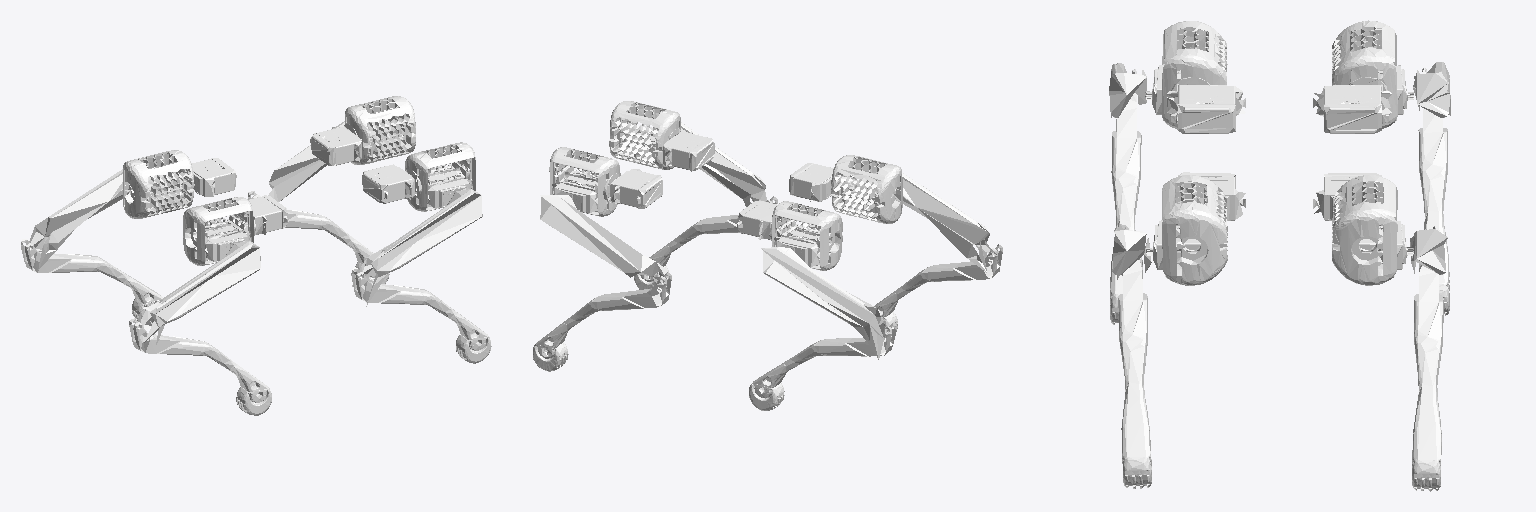
robot.urdf — gray:
<?xml version="1.0" ?>
<robot name="gray">
  <mujoco>
    <compiler meshdir="." discardvisual="false" balanceinertia="true" strippath="false"/>
  </mujoco>
  <link name="base_link">
    <inertial>
      <origin xyz="-0.000000000 0.000000000 -0.003023600" rpy="1.570796327 -0.000000000 0.000000000"/>
      <mass value="0.723180"/>
      <inertia ixx="1.274255707e-04" ixy="-6.558570651e-22" ixz="-5.072049529e-21" iyy="4.291599532e-04" iyz="2.085469317e-20" izz="5.217520436e-04"/>
    </inertial>
    <visual>
      <origin xyz="0.000000000 0.000000000 0.000000000" rpy="1.570796327 -0.000000000 0.000000000"/>
      <geometry>
        <mesh filename="meshes/base_link.STL"/>
      </geometry>
      <material name="">
        <color rgba="1 1 1 1"/>
      </material>
    </visual>
    <collision name="base_link_collision">
      <origin xyz="0.000000000 0.000000000 -0.003000000" rpy="0.000000327 1.570796000 0.000000000"/>
      <geometry>
        <box size="0.025000 0.157562 0.196800"/>
      </geometry>
    </collision>
  </link>
  <link name="fl_hip">
    <inertial>
      <origin xyz="0.0272971333033659 1.75159621585708E-05 0.00247430441137858" rpy="0 0 0"/>
      <mass value="0.089316"/>
      <inertia ixx="4.095139730e-05" ixy="-1.421953676e-08" ixz="-7.320029296e-07" iyy="6.141149443e-05" iyz="3.111072109e-07" izz="8.031087397e-05"/>
    </inertial>
    <visual>
      <origin xyz="0 0 0" rpy="0 0 0"/>
      <geometry>
        <mesh filename="meshes/fl_hip.STL"/>
      </geometry>
      <material name="">
        <color rgba="1 1 1 1"/>
      </material>
    </visual>
    <collision name="fl_hip_collision">
      <origin xyz="0.028311 0.000021 0.001500" rpy="-1.599086 1.555804 -1.599089"/>
      <geometry>
        <box size="0.045024 0.058762 0.067233"/>
      </geometry>
    </collision>
  </link>
  <joint name="fl_hip" type="revolute">
    <origin xyz="0.098400000 0.060681000 -0.003029200" rpy="1.570796327 -0.000000000 0.000000000"/>
    <parent link="base_link"/>
    <child link="fl_hip"/>
    <axis xyz="1 0 0"/>
    <limit lower="-2.356200" upper="2.356200" effort="1.96" velocity="6.54"/>
    <dynamics damping="0.02" friction="0.01"/>
  </joint>
  <link name="fl_top">
    <inertial>
      <origin xyz="-0.0327093590748004 -0.0129114746104738 0.00626100034714228" rpy="0 0 0"/>
      <mass value="0.106742"/>
      <inertia ixx="2.793836667e-05" ixy="-3.713513193e-05" ixz="1.487764120e-06" iyy="9.582909881e-05" iyz="9.648675720e-07" izz="1.136563762e-04"/>
    </inertial>
    <visual>
      <origin xyz="0 0 0" rpy="0 0 0"/>
      <geometry>
        <mesh filename="meshes/fl_top.STL"/>
      </geometry>
      <material name="">
        <color rgba="1 1 1 1"/>
      </material>
    </visual>
    <collision name="fl_top_collision">
      <origin xyz="-0.060420 -0.027111 0.011157" rpy="1.577896 0.013155 2.065427"/>
      <geometry>
        <box size="0.041200 0.070300 0.169826"/>
      </geometry>
    </collision>
  </link>
  <joint name="fl_top" type="revolute">
    <origin xyz="0.0386 -0.011483 -0.032232" rpy="0 0 0"/>
    <parent link="fl_hip"/>
    <child link="fl_top"/>
    <axis xyz="0 0 -1"/>
    <limit lower="-2.356200" upper="2.356200" effort="1.96" velocity="6.54"/>
    <dynamics damping="0.02" friction="0.01"/>
  </joint>
  <link name="fl_bottom">
    <inertial>
      <origin xyz="0.078482158861255 -0.0448672466577361 0.00348748963952544" rpy="0 0 0"/>
      <mass value="0.029326"/>
      <inertia ixx="1.617060595e-05" ixy="2.227411118e-05" ixz="-3.329047077e-07" iyy="3.764353943e-05" iyz="2.189105757e-07" izz="5.228718213e-05"/>
    </inertial>
    <visual>
      <origin xyz="0 0 0" rpy="0 0 0"/>
      <geometry>
        <mesh filename="meshes/fl_bottom.STL"/>
      </geometry>
      <material name="">
        <color rgba="1 1 1 1"/>
      </material>
    </visual>
    <collision name="fl_bottom_collision">
      <origin xyz="0.137671 -0.100124 0.004461" rpy="0 0 0"/>
      <geometry>
        <sphere radius="0.012"/>
      </geometry>
    </collision>
  </link>
  <joint name="fl_bottom" type="revolute">
    <origin xyz="-0.12132 -0.072387 -0.013569" rpy="0 0 0"/>
    <parent link="fl_top"/>
    <child link="fl_bottom"/>
    <axis xyz="0 0 -1"/>
    <limit lower="-2.356200" upper="2.356200" effort="1.96" velocity="6.54"/>
    <dynamics damping="0.02" friction="0.01"/>
  </joint>
  <link name="fr_hip">
    <inertial>
      <origin xyz="0.027297131982034 9.90275998717094E-05 -0.00247238563061042" rpy="0 0 0"/>
      <mass value="0.089316"/>
      <inertia ixx="4.095140130e-05" ixy="-2.027365783e-08" ixz="7.318621947e-07" iyy="6.142413677e-05" iyz="-5.794929742e-07" izz="8.029824309e-05"/>
    </inertial>
    <visual>
      <origin xyz="0 0 0" rpy="0 0 0"/>
      <geometry>
        <mesh filename="meshes/fr_hip.STL"/>
      </geometry>
      <material name="">
        <color rgba="1 1 1 1"/>
      </material>
    </visual>
    <collision name="fr_hip_collision">
      <origin xyz="0.028314 0.000050 -0.001499" rpy="1.570796 1.538626 1.570796"/>
      <geometry>
        <box size="0.045000 0.058762 0.067227"/>
      </geometry>
    </collision>
  </link>
  <joint name="fr_hip" type="revolute">
    <origin xyz="0.098400000 -0.060681000 -0.003029200" rpy="1.570796327 -0.000000000 0.000000000"/>
    <parent link="base_link"/>
    <child link="fr_hip"/>
    <axis xyz="1 0 0"/>
    <limit lower="-2.356200" upper="2.356200" effort="1.96" velocity="6.54"/>
    <dynamics damping="0.02" friction="0.01"/>
  </joint>
  <link name="fr_top">
    <inertial>
      <origin xyz="-0.0327864495707164 -0.0126313769769459 -0.00647693886353867" rpy="0 0 0"/>
      <mass value="0.106736"/>
      <inertia ixx="2.749548560e-05" ixy="-3.672121852e-05" ixz="-2.118720958e-06" iyy="9.630271503e-05" iyz="-1.251466700e-06" izz="1.136123180e-04"/>
    </inertial>
    <visual>
      <origin xyz="0 0 0" rpy="0 0 0"/>
      <geometry>
        <mesh filename="meshes/fr_top.STL"/>
      </geometry>
      <material name="">
        <color rgba="1 1 1 1"/>
      </material>
    </visual>
    <collision name="fr_top_collision">
      <origin xyz="-0.060519 -0.026677 -0.011610" rpy="1.556207 -0.022048 2.059529"/>
      <geometry>
        <box size="0.041307 0.070440 0.169852"/>
      </geometry>
    </collision>
  </link>
  <joint name="fr_top" type="revolute">
    <origin xyz="0.0381 -0.012136 0.032026" rpy="0 0 0"/>
    <parent link="fr_hip"/>
    <child link="fr_top"/>
    <axis xyz="0 0 1"/>
    <limit lower="-2.356200" upper="2.356200" effort="1.96" velocity="6.54"/>
    <dynamics damping="0.02" friction="0.01"/>
  </joint>
  <link name="fr_bottom">
    <inertial>
      <origin xyz="0.0791469661032436 -0.0433740165808617 -0.0042133669017476" rpy="0 0 0"/>
      <mass value="0.029326"/>
      <inertia ixx="1.537425300e-05" ixy="2.186364395e-05" ixz="7.037265688e-07" iyy="3.845087934e-05" iyz="-4.454517367e-07" izz="5.227603807e-05"/>
    </inertial>
    <visual>
      <origin xyz="0 0 0" rpy="0 0 0"/>
      <geometry>
        <mesh filename="meshes/fr_bottom.STL"/>
      </geometry>
      <material name="">
        <color rgba="1 1 1 1"/>
      </material>
    </visual>
    <collision name="fr_bottom_collision">
      <origin xyz="0.138941 -0.097521 -0.006355" rpy="0 0 0"/>
      <geometry>
        <sphere radius="0.012"/>
      </geometry>
    </collision>
  </link>
  <joint name="fr_bottom" type="revolute">
    <origin xyz="-0.121749494844511 -0.0718844345331731 0.0123443050311544" rpy="0 0 0"/>
    <parent link="fr_top"/>
    <child link="fr_bottom"/>
    <axis xyz="0 0 1"/>
    <limit lower="-2.356200" upper="2.356200" effort="1.96" velocity="6.54"/>
    <dynamics damping="0.02" friction="0.01"/>
  </joint>
  <link name="br_hip">
    <inertial>
      <origin xyz="-0.0272971344226925 -6.43744326411511E-05 -0.00247351850938268" rpy="0 0 0"/>
      <mass value="0.089316"/>
      <inertia ixx="4.095140568e-05" ixy="-1.001516279e-08" ixz="-7.320731040e-07" iyy="6.141161404e-05" iyz="3.147822850e-07" izz="8.031078511e-05"/>
    </inertial>
    <visual>
      <origin xyz="0 0 0" rpy="0 0 0"/>
      <geometry>
        <mesh filename="meshes/br_hip.STL"/>
      </geometry>
      <material name="">
        <color rgba="1 1 1 1"/>
      </material>
    </visual>
    <collision name="br_hip_collision">
      <origin xyz="-0.028313 -0.000029 -0.001500" rpy="-1.572805 1.552642 -1.572806"/>
      <geometry>
        <box size="0.045002 0.058762 0.067228"/>
      </geometry>
    </collision>
  </link>
  <joint name="br_hip" type="revolute">
    <origin xyz="-0.098400000 -0.060681000 -0.003029200" rpy="1.570796327 -0.000000000 0.000000000"/>
    <parent link="base_link"/>
    <child link="br_hip"/>
    <axis xyz="-1 0 0"/>
    <limit lower="-2.356200" upper="2.356200" effort="1.96" velocity="6.54"/>
    <dynamics damping="0.02" friction="0.01"/>
  </joint>
  <link name="br_top">
    <inertial>
      <origin xyz="-0.0331307458806611 -0.0121448427162066 -0.00584779936915039" rpy="0 0 0"/>
      <mass value="0.106736"/>
      <inertia ixx="2.550971079e-05" ixy="-3.494767959e-05" ixz="-3.209564378e-07" iyy="9.820681899e-05" iyz="-3.859691251e-07" izz="1.136939891e-04"/>
    </inertial>
    <visual>
      <origin xyz="0 0 0" rpy="0 0 0"/>
      <geometry>
        <mesh filename="meshes/br_top.STL"/>
      </geometry>
      <material name="">
        <color rgba="1 1 1 1"/>
      </material>
    </visual>
    <collision name="br_top_collision">
      <origin xyz="-0.061286 -0.025409 -0.010290" rpy="1.578872 0.016260 2.031790"/>
      <geometry>
        <box size="0.041200 0.070300 0.169865"/>
      </geometry>
    </collision>
  </link>
  <joint name="br_top" type="revolute">
    <origin xyz="-0.0186000000001146 -0.0104099959720499 0.0325943550920316" rpy="0 0 0"/>
    <parent link="br_hip"/>
    <child link="br_top"/>
    <axis xyz="0 0 1"/>
    <limit lower="-2.356200" upper="2.356200" effort="1.96" velocity="6.54"/>
    <dynamics damping="0.02" friction="0.01"/>
  </joint>
  <link name="br_bottom">
    <inertial>
      <origin xyz="0.0791720299116837 -0.043485483448343 -0.00202700123300074" rpy="0 0 0"/>
      <mass value="0.029326"/>
      <inertia ixx="1.534908537e-05" ixy="2.185810545e-05" ixz="-3.967457411e-07" iyy="3.846634171e-05" iyz="2.509216629e-07" izz="5.228589860e-05"/>
    </inertial>
    <visual>
      <origin xyz="0 0 0" rpy="0 0 0"/>
      <geometry>
        <mesh filename="meshes/br_bottom.STL"/>
      </geometry>
      <material name="">
        <color rgba="1 1 1 1"/>
      </material>
    </visual>
    <collision name="br_bottom_collision">
      <origin xyz="0.138997 -0.097637 -0.001443" rpy="0 0 0"/>
      <geometry>
        <sphere radius="0.012"/>
      </geometry>
    </collision>
  </link>
  <joint name="br_bottom" type="revolute">
    <origin xyz="-0.12368 -0.067775 0.015883" rpy="0 0 0"/>
    <parent link="br_top"/>
    <child link="br_bottom"/>
    <axis xyz="0 0 1"/>
    <limit lower="-2.356200" upper="2.356200" effort="1.96" velocity="6.54"/>
    <dynamics damping="0.02" friction="0.01"/>
  </joint>
  <link name="bl_hip">
    <inertial>
      <origin xyz="-0.0272971324067885 -3.03826091760384E-05 0.00247418544860611" rpy="0 0 0"/>
      <mass value="0.089316"/>
      <inertia ixx="4.095139440e-05" ixy="-1.802623651e-08" ixz="7.319192811e-07" iyy="6.141524003e-05" iyz="-4.093877867e-07" izz="8.030711694e-05"/>
    </inertial>
    <visual>
      <origin xyz="0 0 0" rpy="0 0 0"/>
      <geometry>
        <mesh filename="meshes/bl_hip.STL"/>
      </geometry>
      <material name="">
        <color rgba="1 1 1 1"/>
      </material>
    </visual>
    <collision name="bl_hip_collision">
      <origin xyz="-0.028303 -0.000029 0.001499" rpy="-1.508820 1.550468 1.632786"/>
      <geometry>
        <box size="0.045072 0.058762 0.067248"/>
      </geometry>
    </collision>
  </link>
  <joint name="bl_hip" type="revolute">
    <origin xyz="-0.098400000 0.060681193 -0.003029221" rpy="1.570796327 -0.000000000 0.000000000"/>
    <parent link="base_link"/>
    <child link="bl_hip"/>
    <axis xyz="-1 0 0"/>
    <limit lower="-2.356200" upper="2.356200" effort="1.96" velocity="6.54"/>
    <dynamics damping="0.02" friction="0.01"/>
  </joint>
  <link name="bl_top">
    <inertial>
      <origin xyz="-0.0332919917737501 -0.011761405740684 0.00583145711228239" rpy="0 0 0"/>
      <mass value="0.106742"/>
      <inertia ixx="2.457241824e-05" ixy="-3.400856326e-05" ixz="2.791506981e-07" iyy="9.914972168e-05" iyz="3.612376097e-07" izz="1.137017029e-04"/>
    </inertial>
    <visual>
      <origin xyz="0 0 0" rpy="0 0 0"/>
      <geometry>
        <mesh filename="meshes/bl_top.STL"/>
      </geometry>
      <material name="">
        <color rgba="1 1 1 1"/>
      </material>
    </visual>
    <collision name="bl_top_collision">
      <origin xyz="-0.061615 -0.024574 0.010253" rpy="1.562842 -0.017575 2.018182"/>
      <geometry>
        <box size="0.041191 0.070426 0.169849"/>
      </geometry>
    </collision>
  </link>
  <joint name="bl_top" type="revolute">
    <origin xyz="-0.0181000000001183 -0.0103448839199625 -0.0326150789771615" rpy="0 0 0"/>
    <parent link="bl_hip"/>
    <child link="bl_top"/>
    <axis xyz="0 0 -1"/>
    <limit lower="-2.356200" upper="2.356200" effort="1.96" velocity="6.54"/>
    <dynamics damping="0.02" friction="0.01"/>
  </joint>
  <link name="bl_bottom">
    <inertial>
      <origin xyz="0.0817269974185858 -0.0387448949191614 0.00203600565191636" rpy="0 0 0"/>
      <mass value="0.029326"/>
      <inertia ixx="1.285659686e-05" ixy="2.034567330e-05" ixz="4.102109456e-07" iyy="4.095880482e-05" iyz="-2.284664256e-07" izz="5.228577005e-05"/>
    </inertial>
    <visual>
      <origin xyz="0 0 0" rpy="0 0 0"/>
      <geometry>
        <mesh filename="meshes/bl_bottom.STL"/>
      </geometry>
      <material name="">
        <color rgba="1 1 1 1"/>
      </material>
    </visual>
    <collision name="bl_bottom_collision">
      <origin xyz="0.145190 -0.089077 0.001410" rpy="0 0 0"/>
      <geometry>
        <sphere radius="0.012"/>
      </geometry>
    </collision>
  </link>
  <joint name="bl_bottom" type="revolute">
    <origin xyz="-0.124595939429202 -0.0660533751871663 -0.0159842670738399" rpy="0 0 0"/>
    <parent link="bl_top"/>
    <child link="bl_bottom"/>
    <axis xyz="0 0 -1"/>
    <limit lower="-2.356200" upper="2.356200" effort="1.96" velocity="6.54"/>
    <dynamics damping="0.02" friction="0.01"/>
  </joint>
</robot>

--- Render facts (derived) ---
The picture shows the robot from 3 angles, left to right: view 1: azimuth 30°, elevation 25°; view 2: azimuth 150°, elevation 25°; view 3: azimuth 270°, elevation 25°; orthographic projection.
Model gray with 13 links and 12 joints (12 revolute), rooted at base_link, posed every joint at zero.
Links seen in each view (by area): view 1: base_link, fr_top, br_top, bl_hip, fl_hip, br_bottom, bl_top, fr_bottom, br_hip, fr_hip, bl_bottom, fl_top (+1 smaller); view 2: base_link, bl_top, fl_top, br_hip, fr_hip, br_top, fl_bottom, bl_hip, bl_bottom, fl_hip, br_bottom, fr_top (+1 smaller); view 3: base_link, fr_hip, fl_hip, fl_bottom, fr_bottom, bl_hip, br_hip, br_bottom, bl_bottom, bl_top, fr_top, fl_top (+1 smaller).
Boxes of the visible links, bbox=[...] form: base_link: bbox=[192, 127, 414, 234]; fr_top: bbox=[352, 169, 482, 306]; br_top: bbox=[138, 225, 260, 344]; bl_hip: bbox=[123, 150, 194, 218]; fl_hip: bbox=[344, 96, 415, 164]; br_bottom: bbox=[129, 318, 271, 415]; bl_top: bbox=[29, 169, 183, 269]; fr_bottom: bbox=[351, 267, 491, 363]; br_hip: bbox=[183, 197, 255, 265]; fr_hip: bbox=[405, 142, 475, 211]; bl_bottom: bbox=[21, 239, 162, 320]; fl_top: bbox=[268, 118, 405, 201]; base_link: bbox=[610, 131, 833, 239]; bl_top: bbox=[761, 228, 884, 359]; fl_top: bbox=[540, 173, 667, 282]; br_hip: bbox=[831, 155, 902, 223]; fr_hip: bbox=[609, 101, 680, 169]; br_top: bbox=[842, 173, 990, 272]; fl_bottom: bbox=[533, 272, 671, 371]; bl_hip: bbox=[769, 201, 842, 270]; bl_bottom: bbox=[749, 322, 897, 410]; fl_hip: bbox=[549, 147, 620, 216]; br_bottom: bbox=[874, 244, 1002, 328]; fr_top: bbox=[619, 122, 766, 206]; base_link: bbox=[1167, 85, 1391, 220]; fr_hip: bbox=[1162, 175, 1227, 285]; fl_hip: bbox=[1332, 175, 1397, 285]; fl_bottom: bbox=[1412, 264, 1443, 491]; fr_bottom: bbox=[1118, 257, 1151, 488]; bl_hip: bbox=[1332, 20, 1397, 128]; br_hip: bbox=[1162, 21, 1227, 129]; br_bottom: bbox=[1110, 69, 1141, 324]; bl_bottom: bbox=[1418, 67, 1449, 315]; bl_top: bbox=[1380, 62, 1450, 117]; fr_top: bbox=[1112, 220, 1200, 279]; fl_top: bbox=[1359, 221, 1447, 274].
Bounding box of the posed robot: 0.4153 × 0.2378 × 0.2216 m (x, y, z).
13 mesh visuals loaded from 13 distinct referenced files (13 binary STL).
